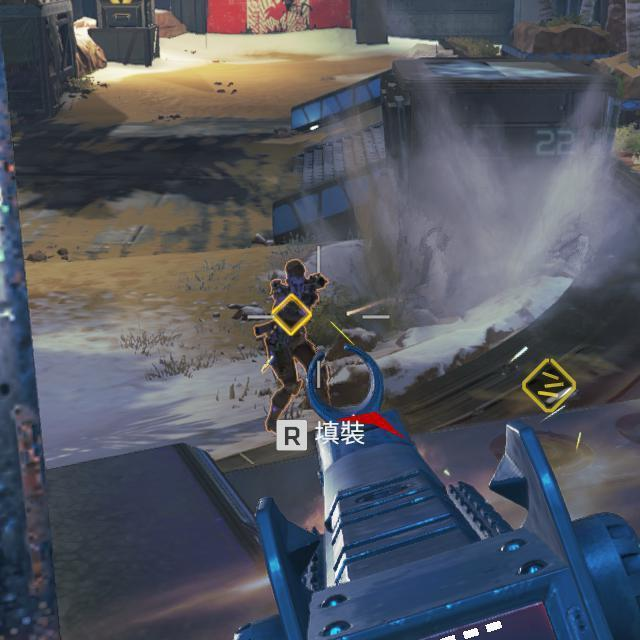avatar: (251, 258, 329, 434)
object: (269, 293, 313, 336)
